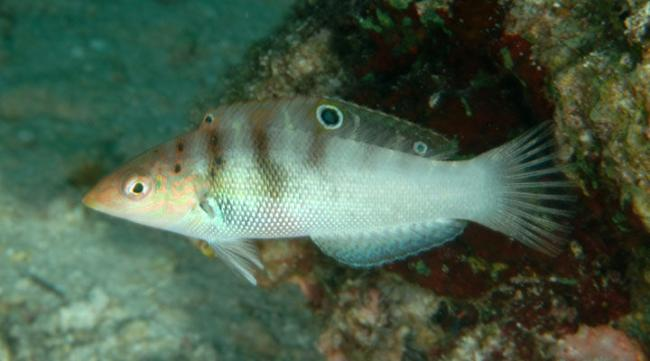fish: (82, 95, 576, 285)
